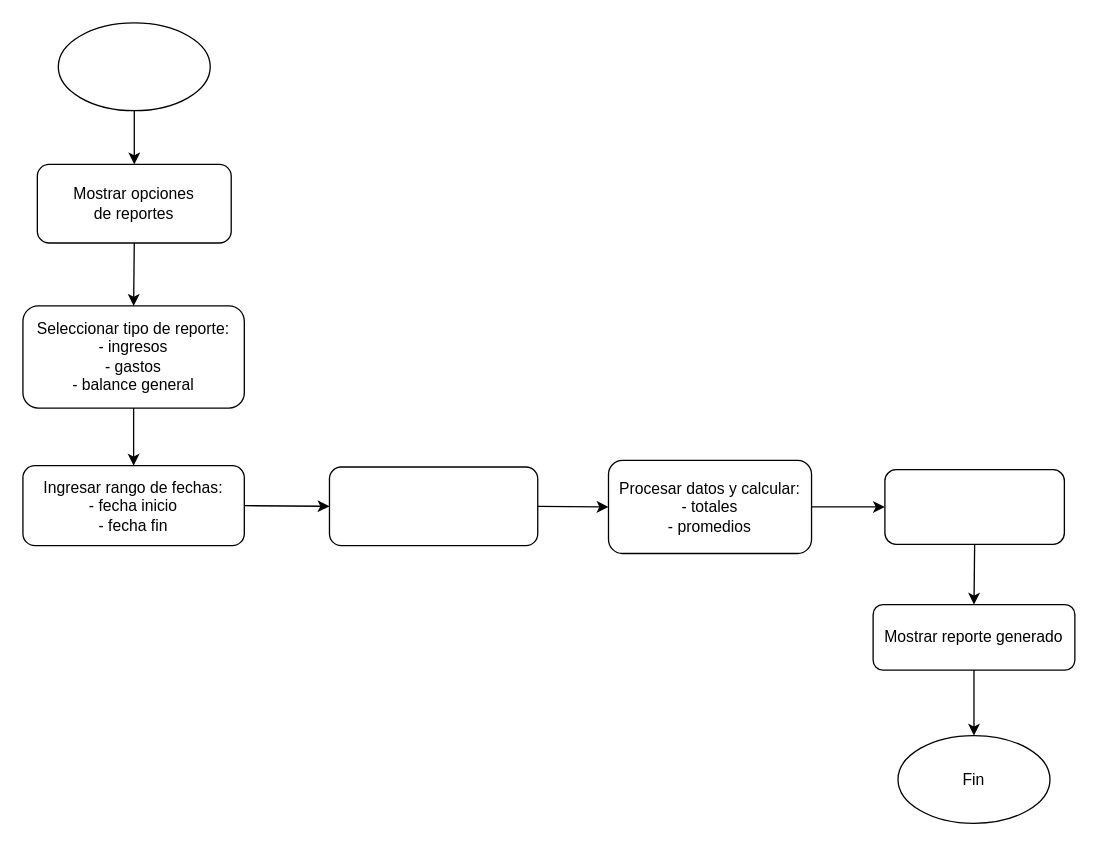
This 1098x846 diagram has some shape labels left out. The shapes that lost their labels are listed below. From the top down, each one's box as (x1, y1, x2, y2) in pixels, then its label:
(57, 22, 210, 111): Inicio
(328, 466, 538, 546): Consultar datos financieros en la Base de Datos
(884, 468, 1064, 544): Generar reporte
